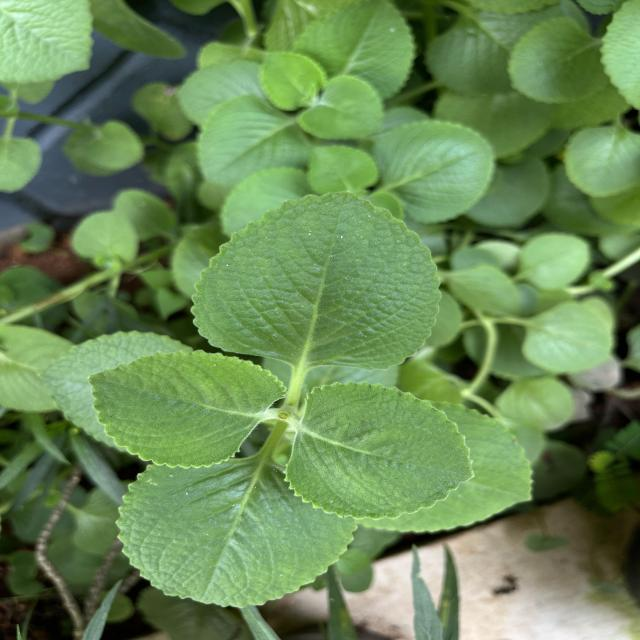Plectranthus barbatus: (188, 190, 444, 372), (114, 466, 360, 610), (282, 379, 478, 522), (86, 348, 290, 470), (372, 120, 499, 228), (293, 0, 417, 100), (504, 16, 610, 105), (561, 124, 640, 200), (299, 76, 387, 140)
